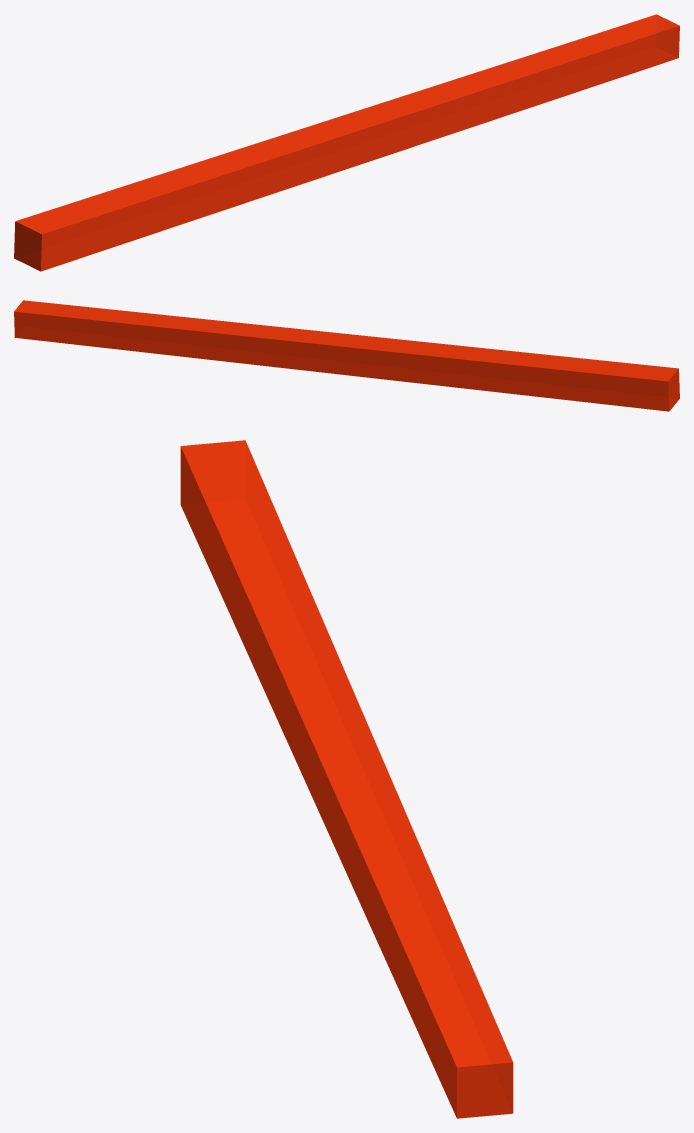
The model's file is Event_421278790_EErechit_15.fbx.
3 renders of one model, top to bottom at view 1: azimuth 30°, elevation 25°; view 2: azimuth 150°, elevation 25°; view 3: azimuth 270°, elevation 25°, orthographic. The views are drawn at different scales.
Visible parts, largest first — view 1: Model; view 2: Model; view 3: Model.
Part boxes in pixels (x1,y1,x2,y2): Model: (14,14,679,271); Model: (14,300,679,411); Model: (180,440,513,1118).
Bounding box in the file's own units: 1.73 × 0.1412 × 0.4204.
